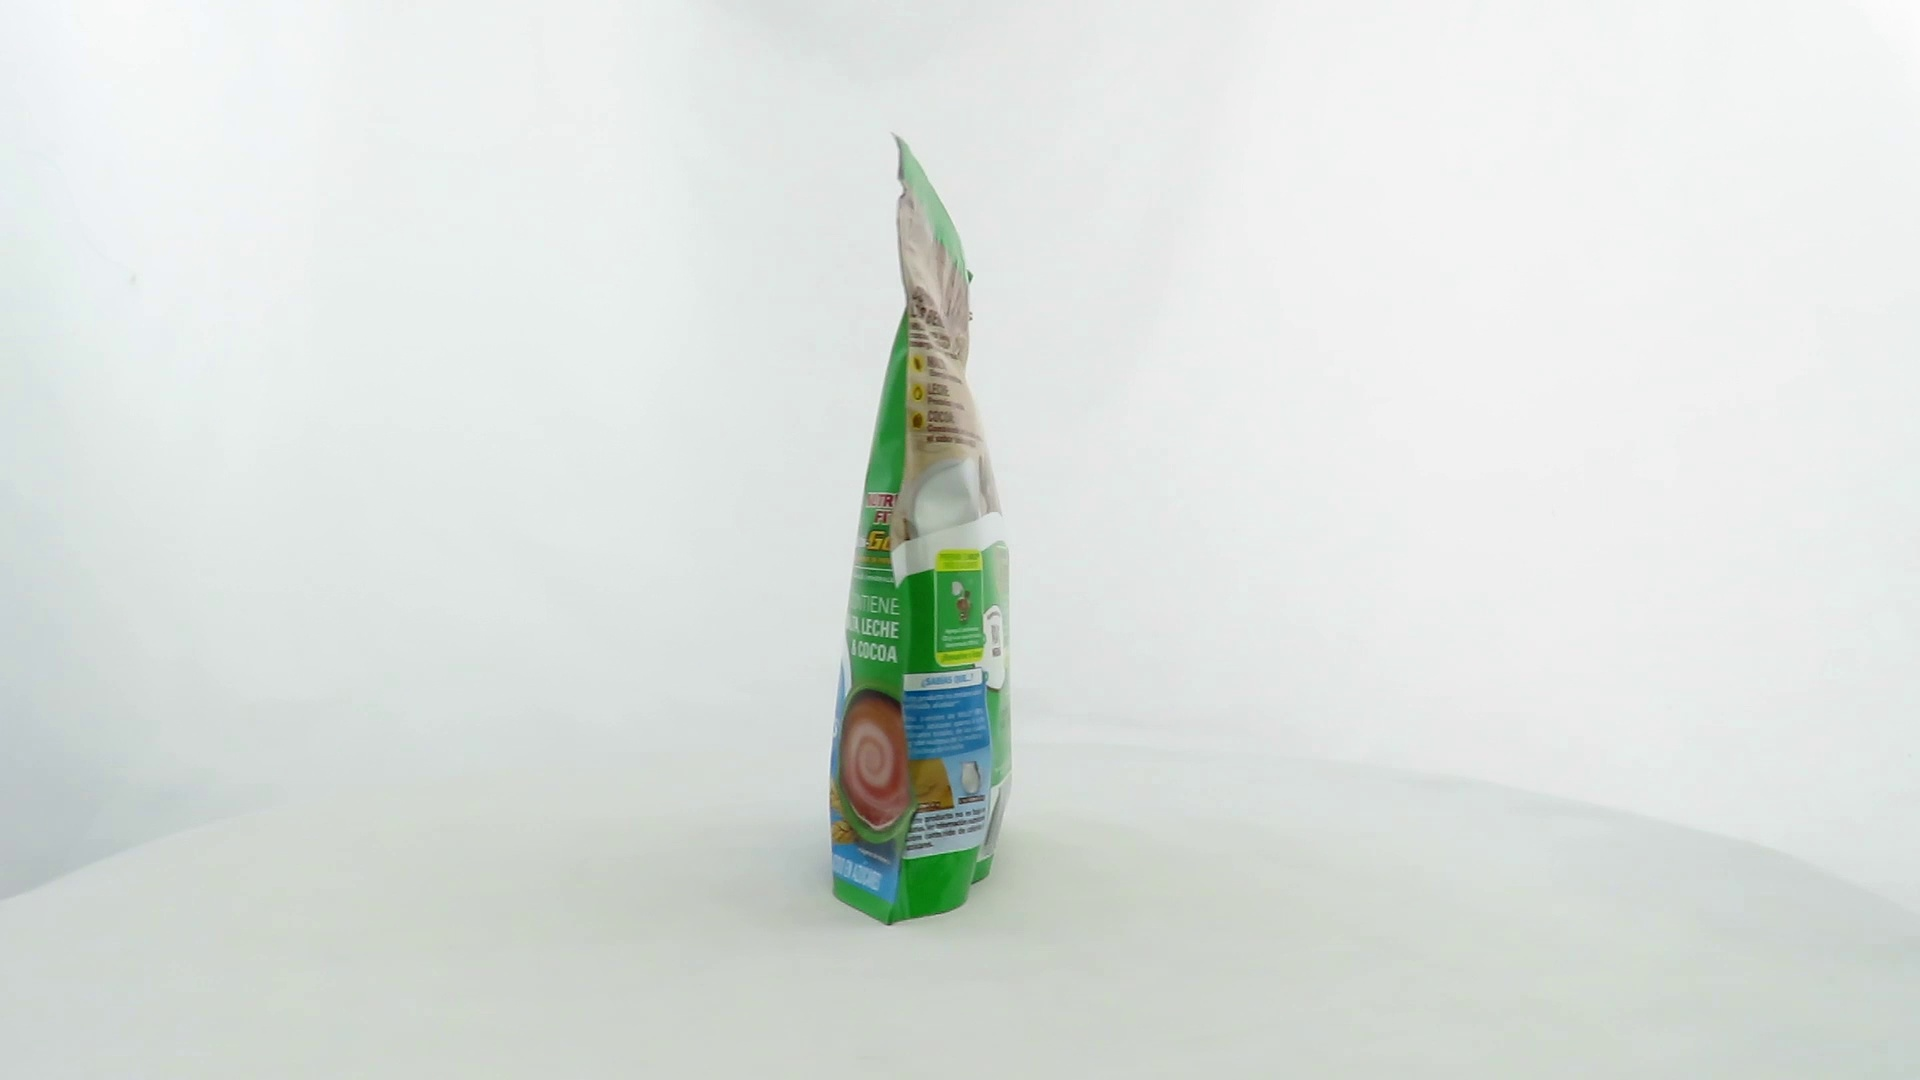COL0170205DYP20000: (824, 127, 1019, 932)
